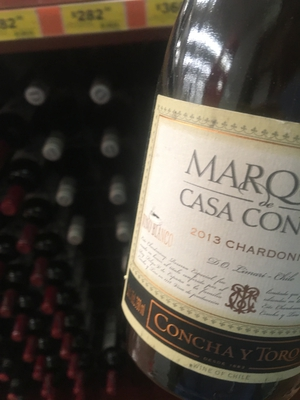marques de casa concha chardonnay: (98, 19, 299, 400)
